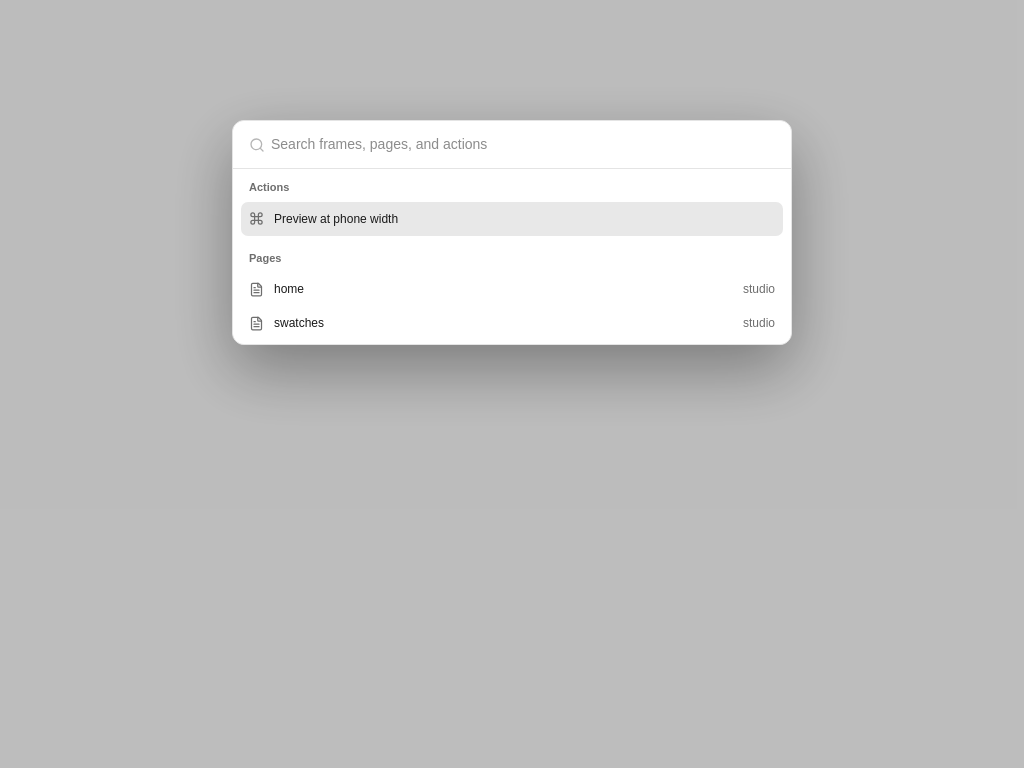
CommandPalette › leaves out a row whose letters only spread across the middle of words
Type "new" into the dropdown. click: (524, 144)
box: [265,134,783,155]
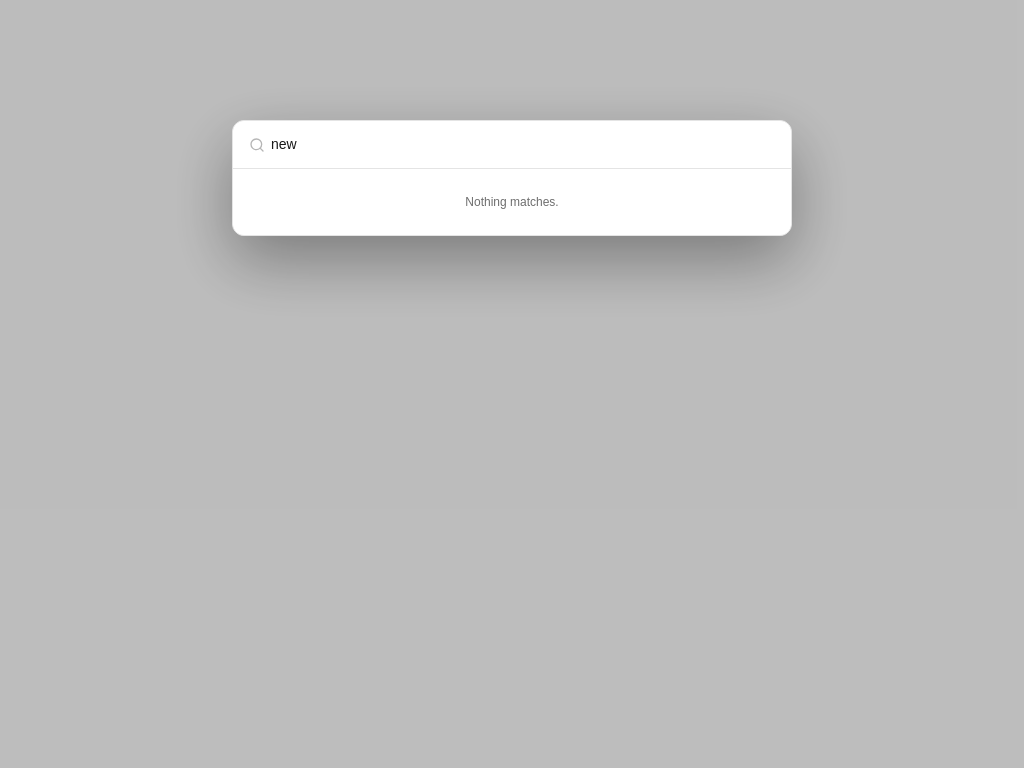
Expected: the text "Nothing matches." is shown, [465,195,559,209]
